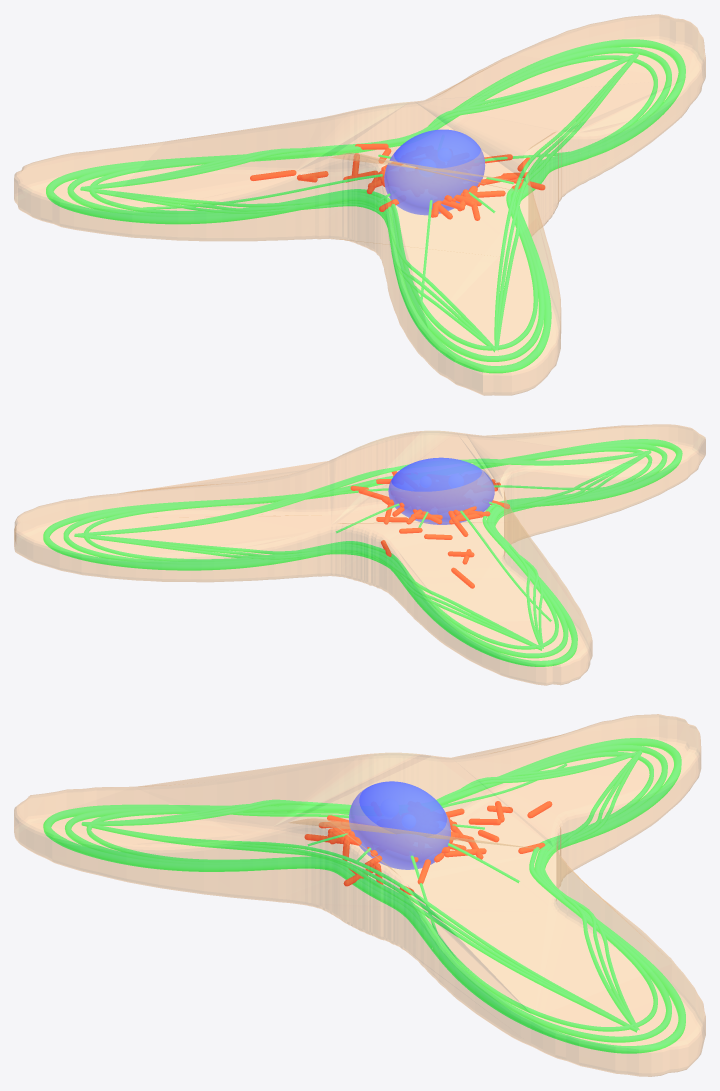
Rendered from dpsc-tripolar-cell-age7.glb.
The picture shows the model from 3 angles, top to bottom: view 1: azimuth 30°, elevation 25°; view 2: azimuth 150°, elevation 25°; view 3: azimuth 270°, elevation 25°; orthographic projection. The views are drawn at different scales.
Visible parts, largest first — view 1: lamella_membrane, actin_bundle_1, actin_bundle_2, nucleus, actin_bundle_3, actin_bundle_4, actin_bundle_10, actin_bundle_12, actin_bundle_11, actin_bundle_9, actin_bundle_7, actin_bundle_8 (+3 smaller); view 2: lamella_membrane, actin_bundle_1, nucleus, actin_bundle_3, actin_bundle_2, actin_bundle_7, actin_bundle_4, actin_bundle_6, actin_bundle_5, actin_bundle_9, actin_bundle_8, actin_bundle_10 (+2 smaller); view 3: lamella_membrane, actin_bundle_1, nucleus, actin_bundle_2, actin_bundle_3, actin_bundle_9, actin_bundle_7, actin_bundle_10, actin_bundle_8, actin_bundle_4, actin_bundle_11, actin_bundle_5 (+2 smaller).
Part boxes in pixels (left/top/right/bottom): lamella_membrane: left=14, top=14, right=705, bottom=395; actin_bundle_1: left=46, top=39, right=685, bottom=373; actin_bundle_2: left=67, top=47, right=671, bottom=361; nucleus: left=384, top=129, right=484, bottom=215; actin_bundle_3: left=89, top=55, right=657, bottom=350; actin_bundle_4: left=81, top=53, right=637, bottom=188; actin_bundle_10: left=80, top=187, right=495, bottom=352; actin_bundle_12: left=82, top=188, right=494, bottom=351; actin_bundle_11: left=80, top=187, right=495, bottom=351; actin_bundle_9: left=495, top=53, right=638, bottom=351; actin_bundle_7: left=494, top=55, right=634, bottom=348; actin_bundle_8: left=496, top=59, right=631, bottom=350; lamella_membrane: left=14, top=424, right=705, bottom=685; actin_bundle_1: left=43, top=439, right=682, bottom=666; nucleus: left=388, top=457, right=494, bottom=524; actin_bundle_3: left=84, top=447, right=652, bottom=649; actin_bundle_2: left=63, top=443, right=667, bottom=658; actin_bundle_7: left=78, top=451, right=647, bottom=535; actin_bundle_4: left=74, top=533, right=542, bottom=650; actin_bundle_6: left=76, top=534, right=541, bottom=650; actin_bundle_5: left=74, top=534, right=538, bottom=646; actin_bundle_9: left=77, top=450, right=649, bottom=533; actin_bundle_8: left=86, top=451, right=644, bottom=533; actin_bundle_10: left=494, top=450, right=651, bottom=648; lamella_membrane: left=14, top=714, right=705, bottom=1076; actin_bundle_1: left=43, top=738, right=685, bottom=1053; nucleus: left=349, top=781, right=450, bottom=869; actin_bundle_2: left=65, top=745, right=671, bottom=1042; actin_bundle_3: left=86, top=751, right=657, bottom=1031; actin_bundle_9: left=81, top=822, right=637, bottom=1032; actin_bundle_7: left=89, top=823, right=633, bottom=1026; actin_bundle_10: left=83, top=751, right=638, bottom=825; actin_bundle_8: left=95, top=824, right=637, bottom=1030; actin_bundle_4: left=542, top=750, right=641, bottom=1029; actin_bundle_11: left=94, top=752, right=634, bottom=822; actin_bundle_5: left=548, top=753, right=638, bottom=1026.
Size of the model in its own units: 0.1343 by 0.0187 by 0.1167.
